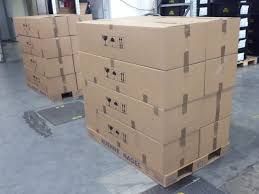box: (84, 105, 164, 179), (84, 79, 163, 148), (77, 51, 163, 113), (75, 21, 165, 71), (163, 94, 204, 147), (164, 59, 205, 110), (165, 20, 205, 71), (164, 127, 200, 176), (205, 17, 241, 61), (205, 51, 238, 95), (205, 121, 235, 159), (205, 87, 232, 129), (204, 115, 231, 155)
pallet: (86, 127, 232, 188)
